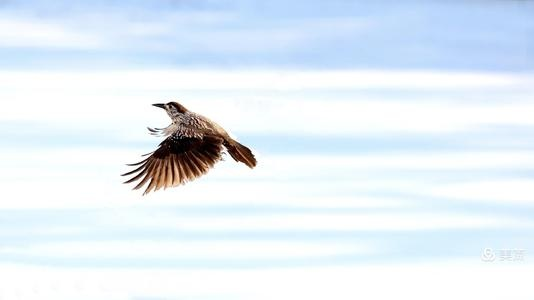bird: (122, 97, 257, 196)
